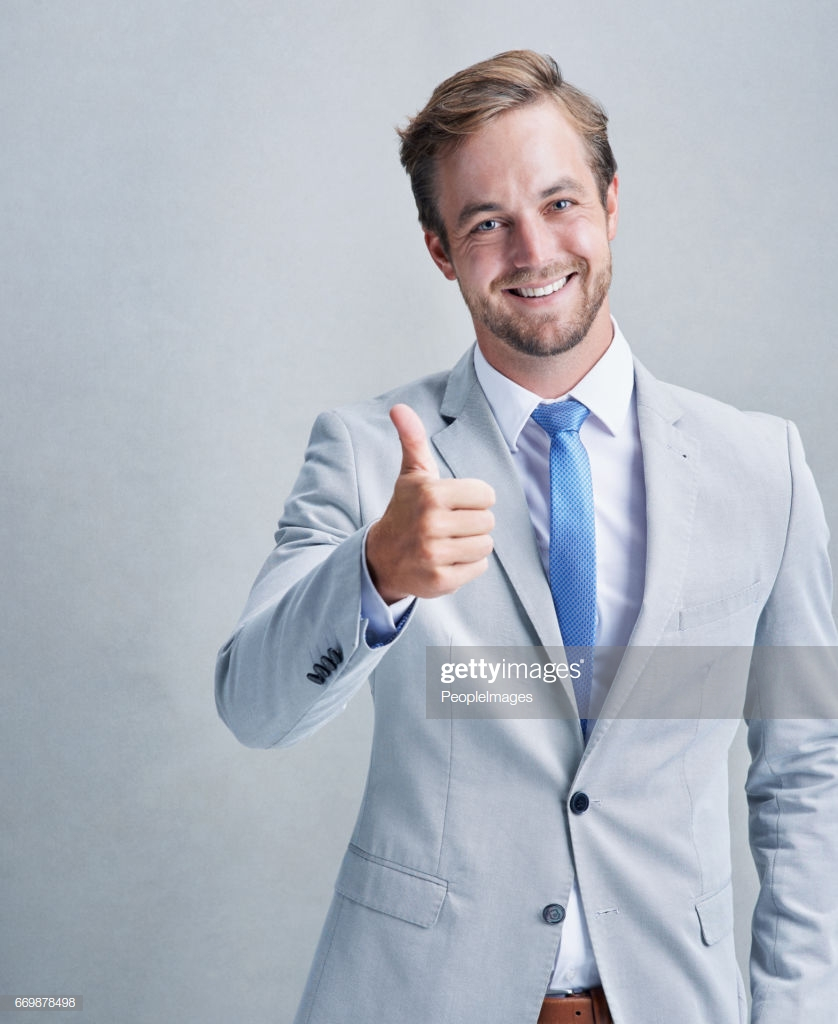thumbsup: (388, 403, 496, 595)
